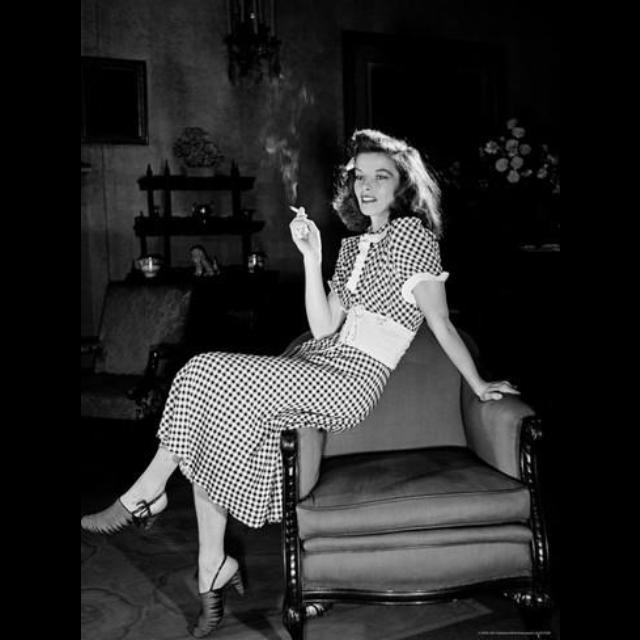rokok: (288, 202, 304, 214)
